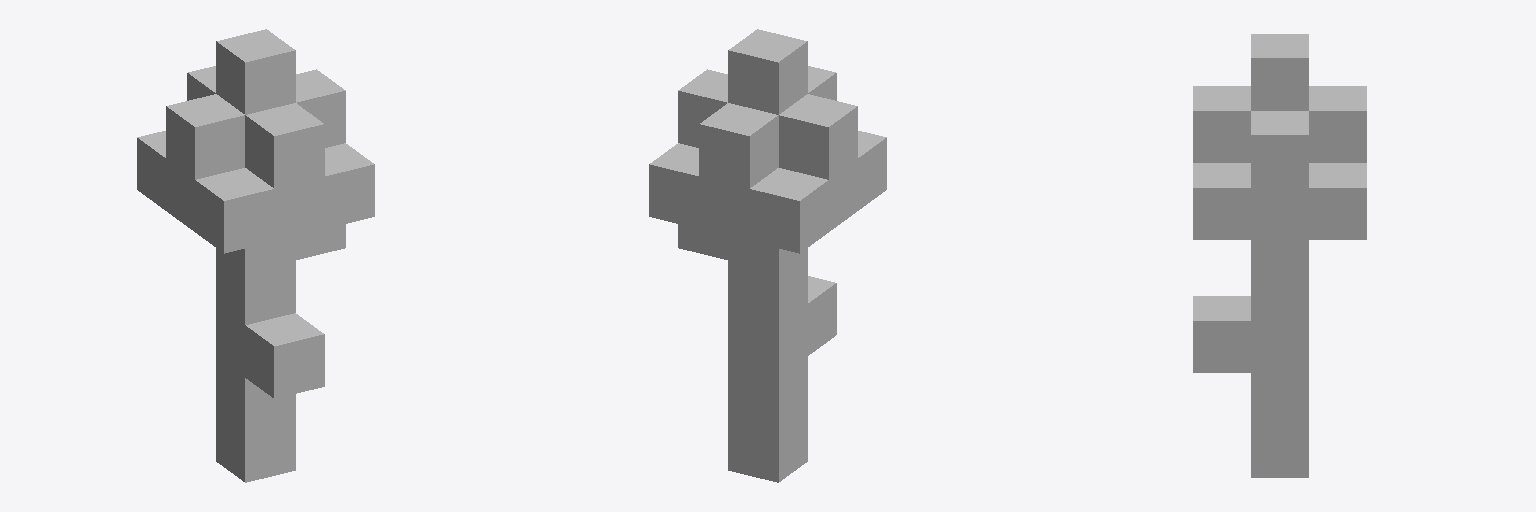
Rendered from Task Flower 1.obj.
3 renders of one model, left to right at view 1: azimuth 30°, elevation 25°; view 2: azimuth 150°, elevation 25°; view 3: azimuth 270°, elevation 25°, orthographic.
Parts seen in each view (by area): view 1: object 1; view 2: object 1; view 3: object 1.
Part boxes in pixels (left/top/right/bottom): object 1: left=137, top=29, right=374, bottom=482; object 1: left=649, top=29, right=886, bottom=482; object 1: left=1193, top=34, right=1366, bottom=477.
Size of the model in its own units: 0.3 by 0.8 by 0.3.